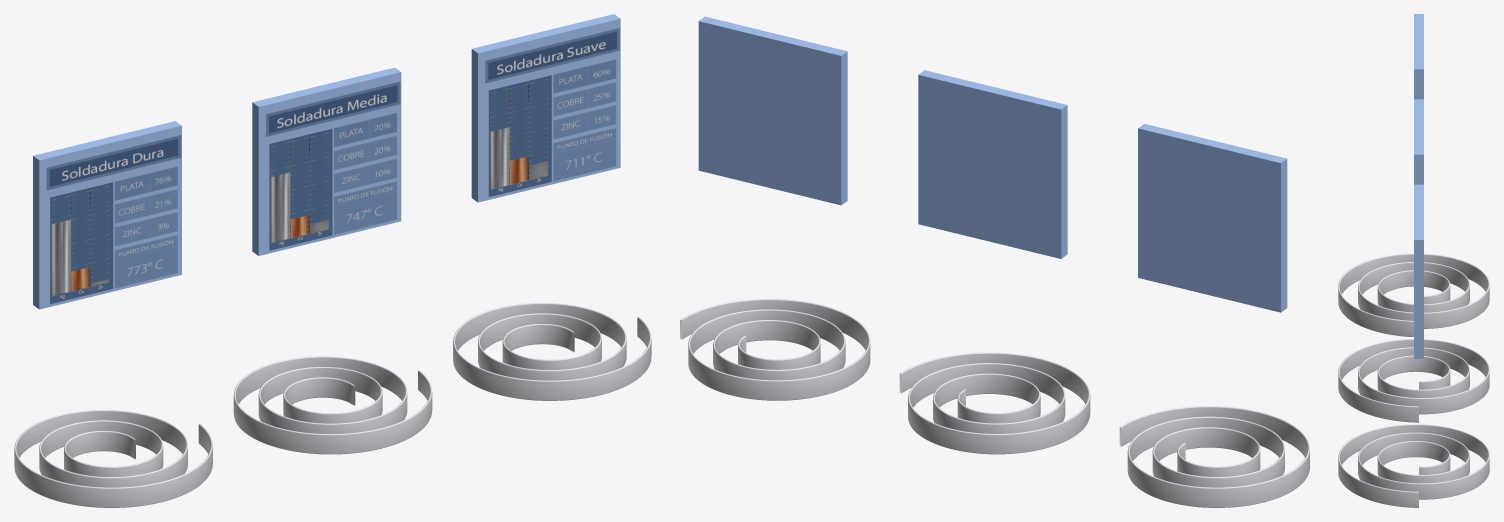
The model's file is Soldaduras.glb.
3 views of the same model, side by side, from view 1: azimuth 30°, elevation 25°; view 2: azimuth 150°, elevation 25°; view 3: azimuth 270°, elevation 25° (orthographic). The views are drawn at different scales.
Visible parts, largest first — view 1: espiral_85_Placa, espiral_70_Placa, espiral_100_Placa, espiral_70_PNG, espiral_85_PNG, espiral_100_PNG, espiral_85, espiral_70, espiral_100; view 2: espiral_85_Placa, espiral_70_Placa, espiral_100_Placa, espiral_85, espiral_100, espiral_70; view 3: espiral_70, espiral_85, espiral_100, espiral_70_Placa, espiral_100_Placa, espiral_85_Placa.
Boxes of the visible parts, left/top/right/bottom form: espiral_85_Placa: left=252, top=67, right=401, bottom=255; espiral_70_Placa: left=471, top=14, right=620, bottom=202; espiral_100_Placa: left=33, top=121, right=181, bottom=309; espiral_70_PNG: left=485, top=28, right=619, bottom=197; espiral_85_PNG: left=266, top=81, right=400, bottom=250; espiral_100_PNG: left=46, top=135, right=181, bottom=304; espiral_85: left=233, top=356, right=432, bottom=454; espiral_70: left=453, top=303, right=651, bottom=400; espiral_100: left=14, top=410, right=212, bottom=507; espiral_85_Placa: left=918, top=70, right=1067, bottom=258; espiral_70_Placa: left=698, top=16, right=847, bottom=205; espiral_100_Placa: left=1138, top=124, right=1287, bottom=312; espiral_85: left=899, top=352, right=1090, bottom=454; espiral_100: left=1119, top=406, right=1309, bottom=507; espiral_70: left=680, top=299, right=870, bottom=400; espiral_70: left=1338, top=424, right=1489, bottom=507; espiral_85: left=1338, top=339, right=1489, bottom=422; espiral_100: left=1338, top=253, right=1489, bottom=336; espiral_70_Placa: left=1414, top=184, right=1423, bottom=358; espiral_100_Placa: left=1414, top=14, right=1423, bottom=99; espiral_85_Placa: left=1414, top=99, right=1423, bottom=184.
Bounding box in the file's own units: 0.2799 × 0.1419 × 0.0751.
Materials: 9 (3 with a texture image).
